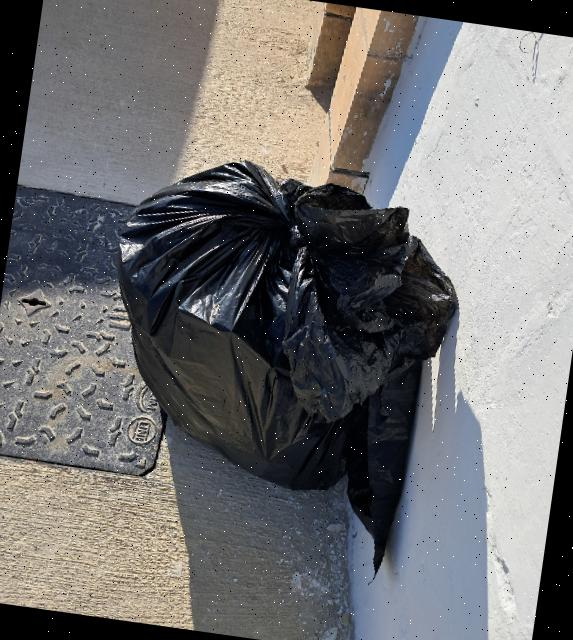Mixed -Black-: (118, 161, 457, 573)
